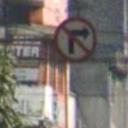NoVirarDireita: (54, 16, 98, 62)
